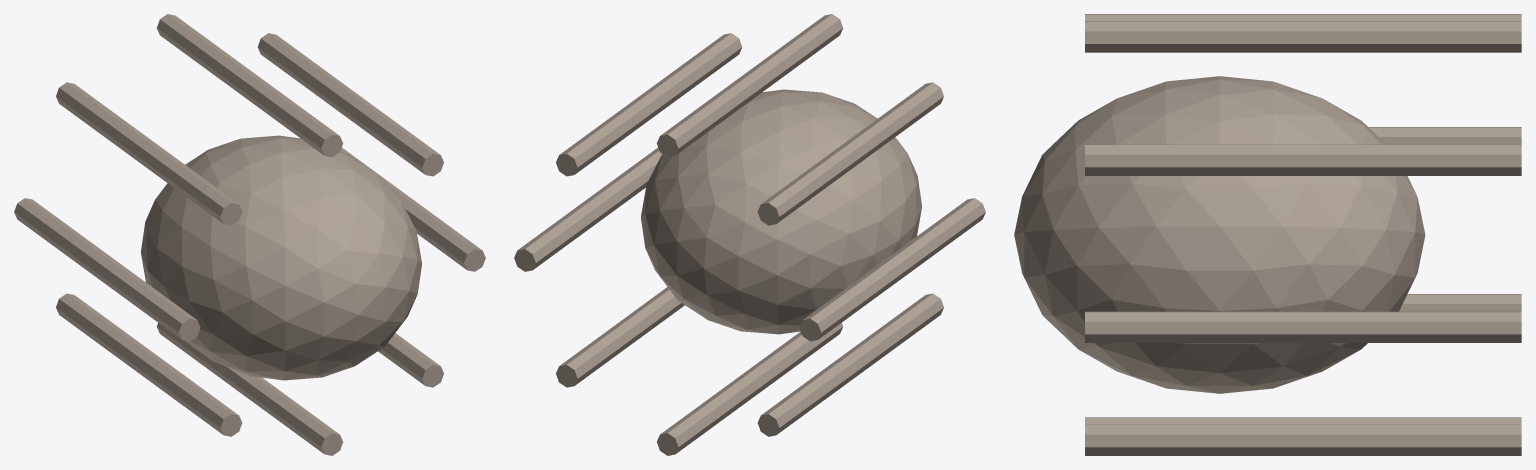
File: 15_Cephalopod_Guardian.glb
3 views of the same model, side by side, from view 1: azimuth 30°, elevation 25°; view 2: azimuth 150°, elevation 25°; view 3: azimuth 270°, elevation 25° (orthographic). The views are drawn at different scales.
Visible parts, largest first — view 1: 15_Cephalopod_Guardian_00, 15_Cephalopod_Guardian_03, 15_Cephalopod_Guardian_07, 15_Cephalopod_Guardian_04, 15_Cephalopod_Guardian_06, 15_Cephalopod_Guardian_05, 15_Cephalopod_Guardian_08, 15_Cephalopod_Guardian_02, 15_Cephalopod_Guardian_09; view 2: 15_Cephalopod_Guardian_00, 15_Cephalopod_Guardian_03, 15_Cephalopod_Guardian_07, 15_Cephalopod_Guardian_04, 15_Cephalopod_Guardian_06, 15_Cephalopod_Guardian_05, 15_Cephalopod_Guardian_08, 15_Cephalopod_Guardian_02, 15_Cephalopod_Guardian_09; view 3: 15_Cephalopod_Guardian_00, 15_Cephalopod_Guardian_02, 15_Cephalopod_Guardian_03, 15_Cephalopod_Guardian_04, 15_Cephalopod_Guardian_09, 15_Cephalopod_Guardian_05, 15_Cephalopod_Guardian_08, 15_Cephalopod_Guardian_06, 15_Cephalopod_Guardian_07.
Part boxes in pixels (x1,y1,x2,y2): 15_Cephalopod_Guardian_00: (141,135,421,380); 15_Cephalopod_Guardian_03: (257,33,443,176); 15_Cephalopod_Guardian_07: (56,293,242,436); 15_Cephalopod_Guardian_04: (157,14,343,157); 15_Cephalopod_Guardian_06: (14,198,200,341); 15_Cephalopod_Guardian_05: (56,82,242,225); 15_Cephalopod_Guardian_08: (156,323,342,455); 15_Cephalopod_Guardian_02: (340,147,485,271); 15_Cephalopod_Guardian_09: (378,333,443,387); 15_Cephalopod_Guardian_00: (641,89,921,334); 15_Cephalopod_Guardian_03: (556,33,742,176); 15_Cephalopod_Guardian_07: (757,293,943,436); 15_Cephalopod_Guardian_04: (656,14,842,157); 15_Cephalopod_Guardian_06: (799,198,985,341); 15_Cephalopod_Guardian_05: (757,82,943,225); 15_Cephalopod_Guardian_08: (657,323,843,455); 15_Cephalopod_Guardian_02: (514,147,661,271); 15_Cephalopod_Guardian_09: (556,287,684,387); 15_Cephalopod_Guardian_00: (1014,76,1425,393); 15_Cephalopod_Guardian_02: (1085,311,1521,342); 15_Cephalopod_Guardian_03: (1085,144,1521,175); 15_Cephalopod_Guardian_04: (1085,21,1521,52); 15_Cephalopod_Guardian_09: (1085,424,1521,455); 15_Cephalopod_Guardian_05: (1085,14,1521,21); 15_Cephalopod_Guardian_08: (1085,417,1521,424); 15_Cephalopod_Guardian_06: (1368,127,1521,144); 15_Cephalopod_Guardian_07: (1399,294,1521,311).
Bounding box in the file's own units: 3.66 × 3.66 × 3.95.
